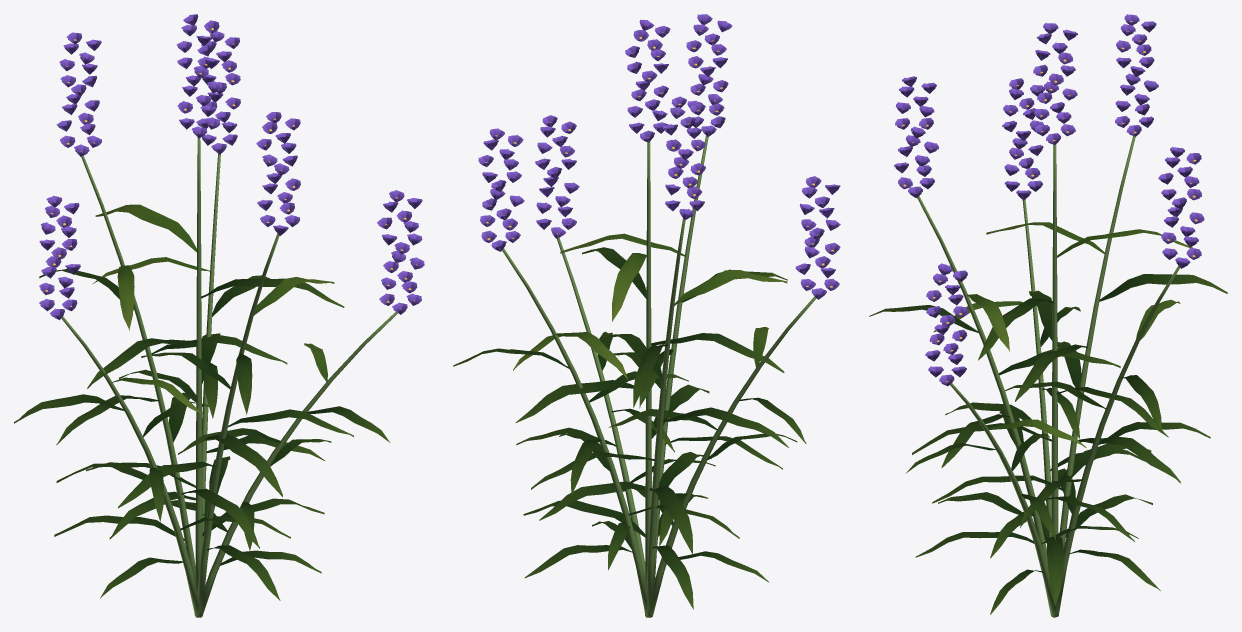
The model's file is lavender-09-lod.glb.
The picture shows the model from 3 angles, left to right: view 1: azimuth 30°, elevation 25°; view 2: azimuth 150°, elevation 25°; view 3: azimuth 270°, elevation 25°; orthographic projection.
Parts seen in each view (by area): view 1: lavender_stage_09_leaf_veins.017, lavender_stage_09_lavender_petal.017, lavender_stage_09_stem_fibres.017, lavender_stage_09_young_leaf.017; view 2: lavender_stage_09_leaf_veins.017, lavender_stage_09_lavender_petal.017, lavender_stage_09_stem_fibres.017, lavender_stage_09_young_leaf.017; view 3: lavender_stage_09_leaf_veins.017, lavender_stage_09_lavender_petal.017, lavender_stage_09_stem_fibres.017, lavender_stage_09_young_leaf.017.
Boxes of the visible parts, x1,y1,x2,y2 form: lavender_stage_09_leaf_veins.017: [14, 269, 389, 600]; lavender_stage_09_lavender_petal.017: [39, 14, 424, 319]; lavender_stage_09_stem_fibres.017: [61, 138, 397, 617]; lavender_stage_09_young_leaf.017: [92, 204, 334, 415]; lavender_stage_09_leaf_veins.017: [453, 247, 806, 609]; lavender_stage_09_lavender_petal.017: [478, 14, 840, 299]; lavender_stage_09_stem_fibres.017: [502, 135, 816, 617]; lavender_stage_09_young_leaf.017: [513, 233, 787, 379]; lavender_stage_09_leaf_veins.017: [869, 274, 1227, 614]; lavender_stage_09_lavender_petal.017: [894, 14, 1204, 386]; lavender_stage_09_stem_fibres.017: [917, 136, 1180, 617]; lavender_stage_09_young_leaf.017: [933, 222, 1192, 447].
Bounding box in the file's own units: 0.3914 × 0.6501 × 0.3596.
5 materials, 3 textured.
